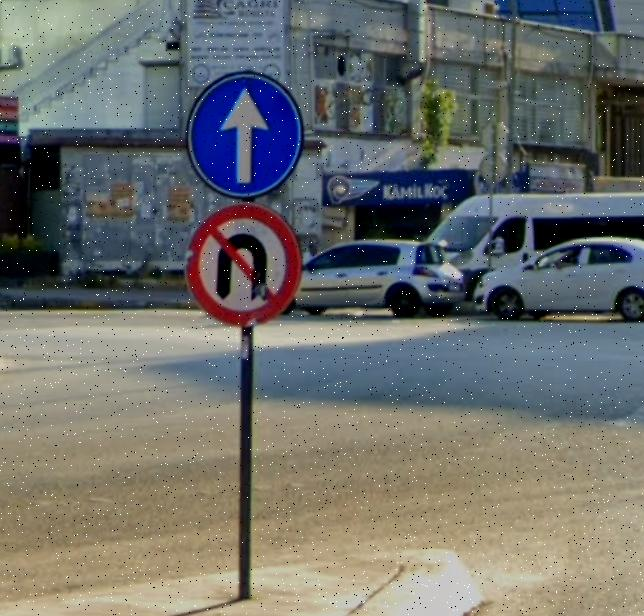forward: (192, 77, 301, 196)
